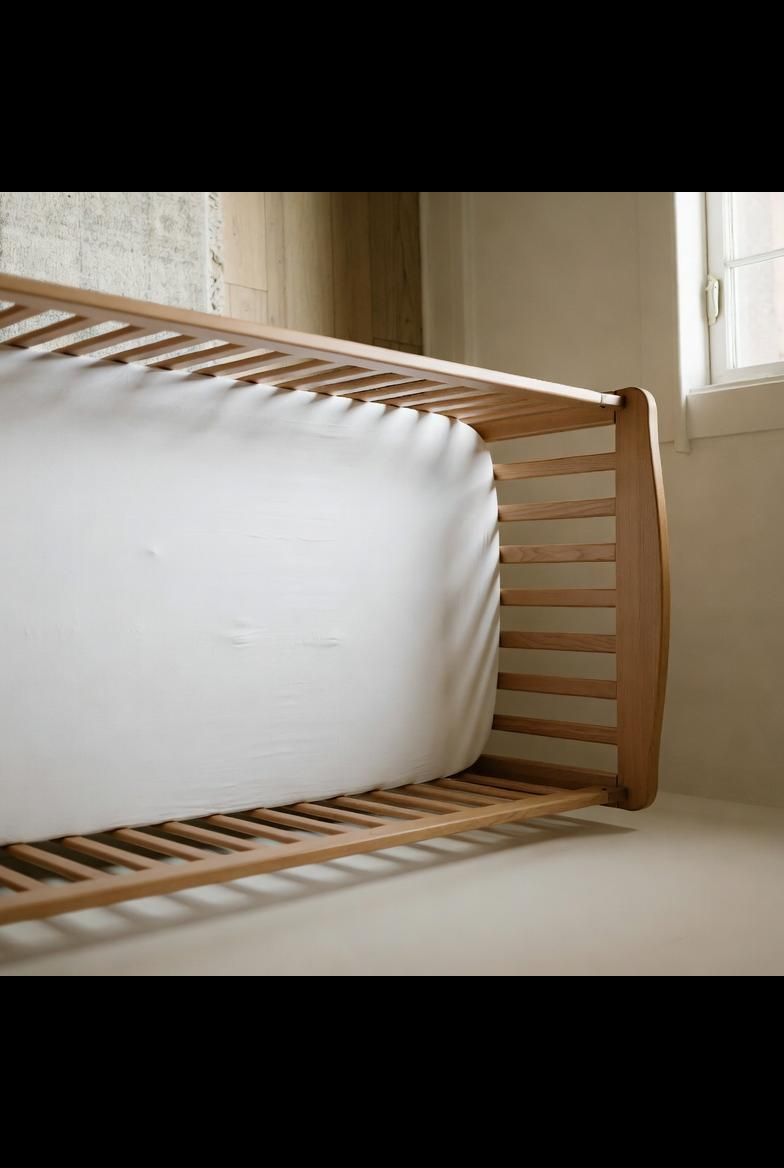crib: (0, 246, 667, 959)
